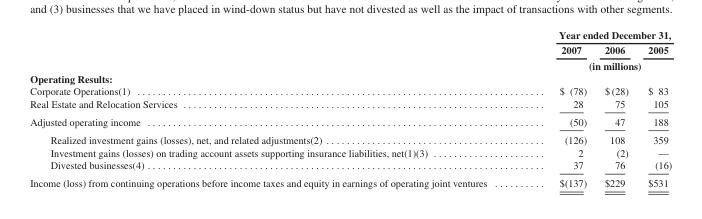table: (29, 28, 671, 188)
table column: (29, 28, 522, 188), (522, 28, 595, 188), (595, 28, 637, 188), (637, 28, 671, 188)
table column header: (29, 28, 671, 71)
table projected row header: (29, 71, 671, 84)
table row: (29, 112, 671, 130), (29, 42, 671, 57), (29, 97, 671, 112), (29, 130, 671, 145), (29, 158, 671, 173), (29, 173, 671, 188), (29, 28, 671, 42), (29, 57, 671, 71), (29, 71, 671, 84), (29, 84, 671, 97), (29, 145, 671, 158)
table spanning cell: (522, 28, 671, 42), (522, 57, 671, 71)
